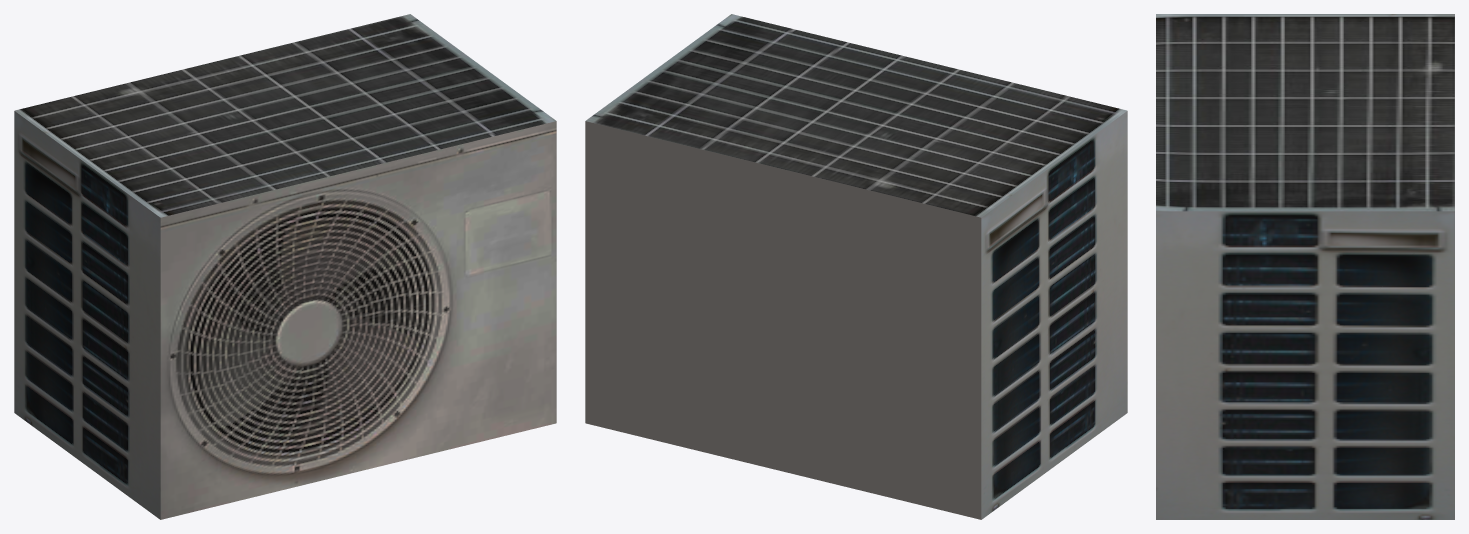
Rendered from acC.fbx.
The picture shows the model from 3 angles, left to right: view 1: azimuth 30°, elevation 25°; view 2: azimuth 150°, elevation 25°; view 3: azimuth 270°, elevation 25°; orthographic projection. The views are drawn at different scales.
Parts seen in each view (by area): view 1: acC; view 2: acC; view 3: acC.
Boxes of the visible parts, x1,y1,x2,y2 form: acC: (14,14,556,519); acC: (585,14,1127,519); acC: (1156,14,1454,519).
Bounding box in the file's own units: 119 × 86.82 × 76.16.
1 material, 1 textured.
